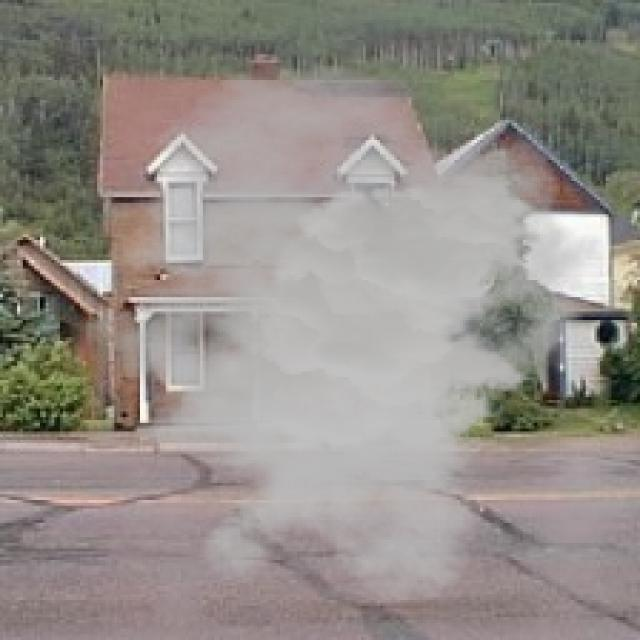smoke: (49, 63, 606, 606)
